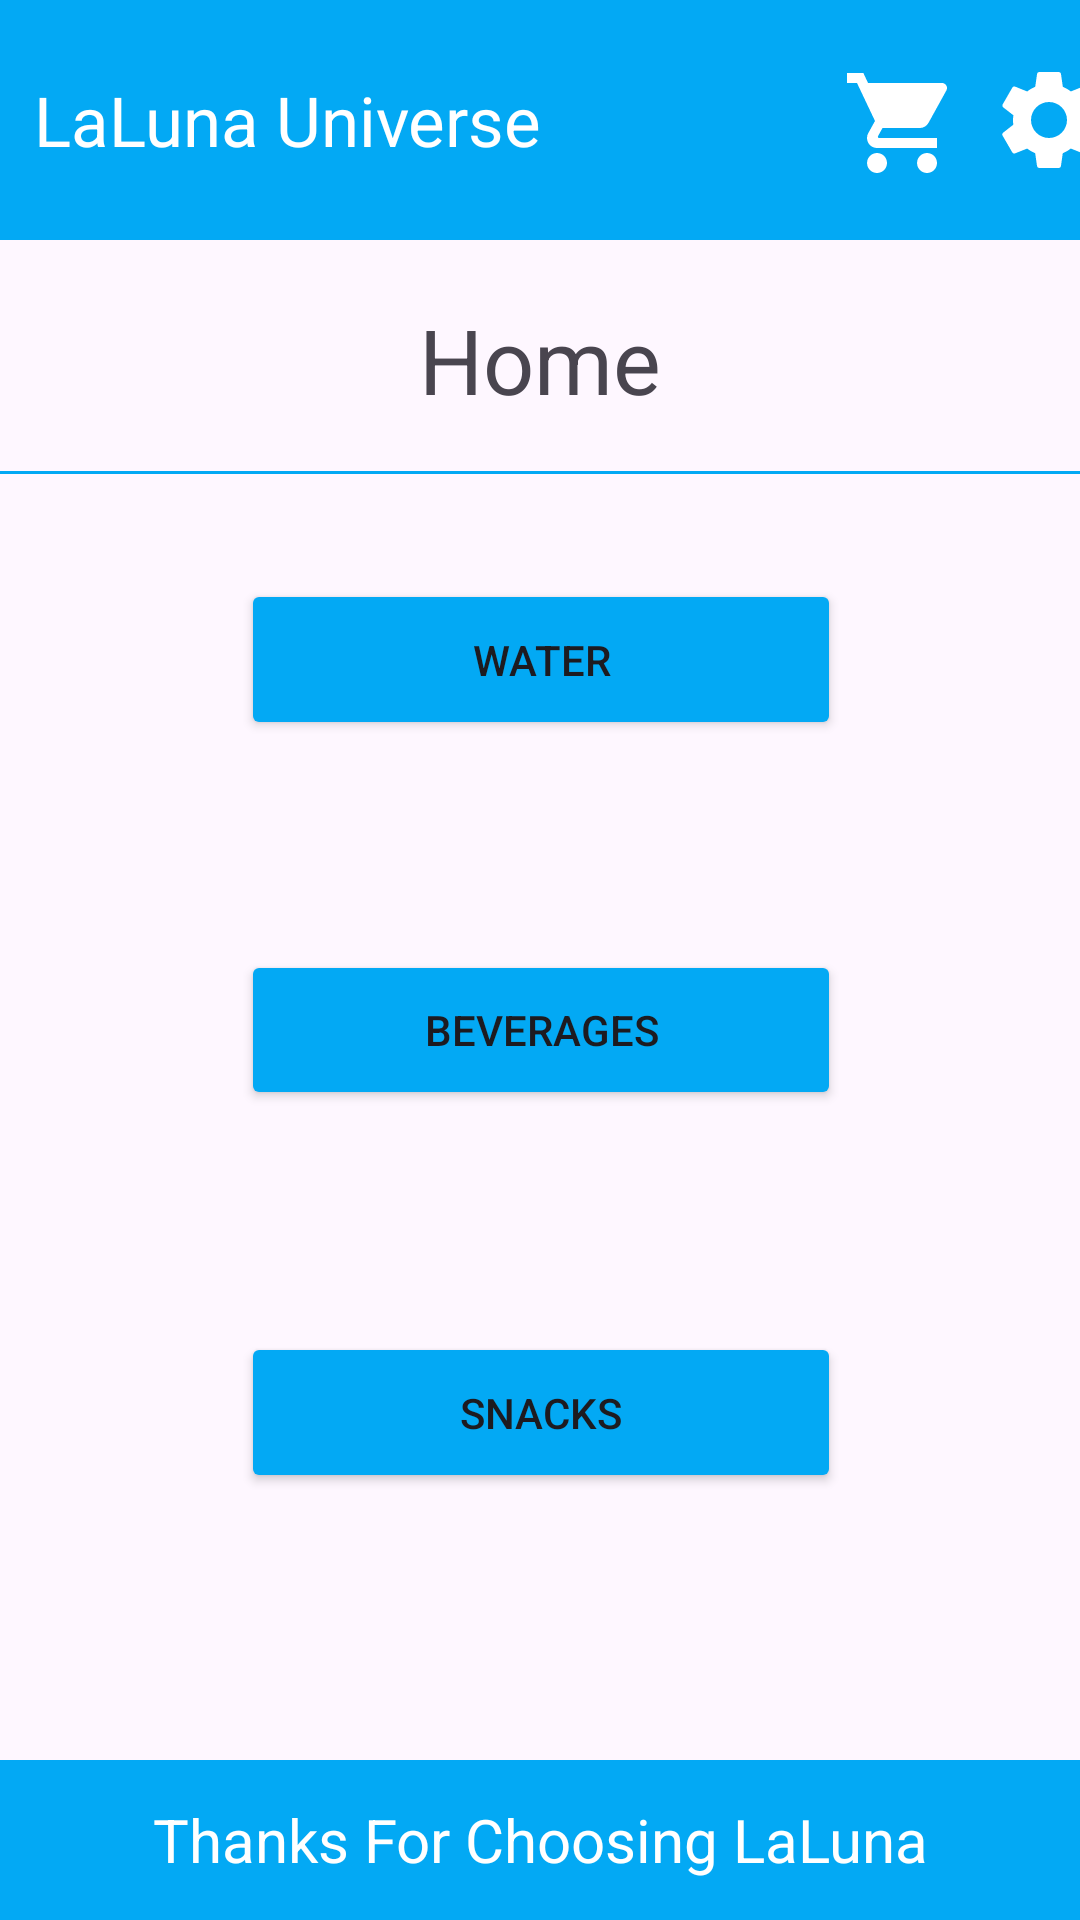

Screen size 1080 x 1920. Icon name, then its box in pixels as (x1, y1, x2, y2):
shopping cart: (847, 73, 947, 173)
